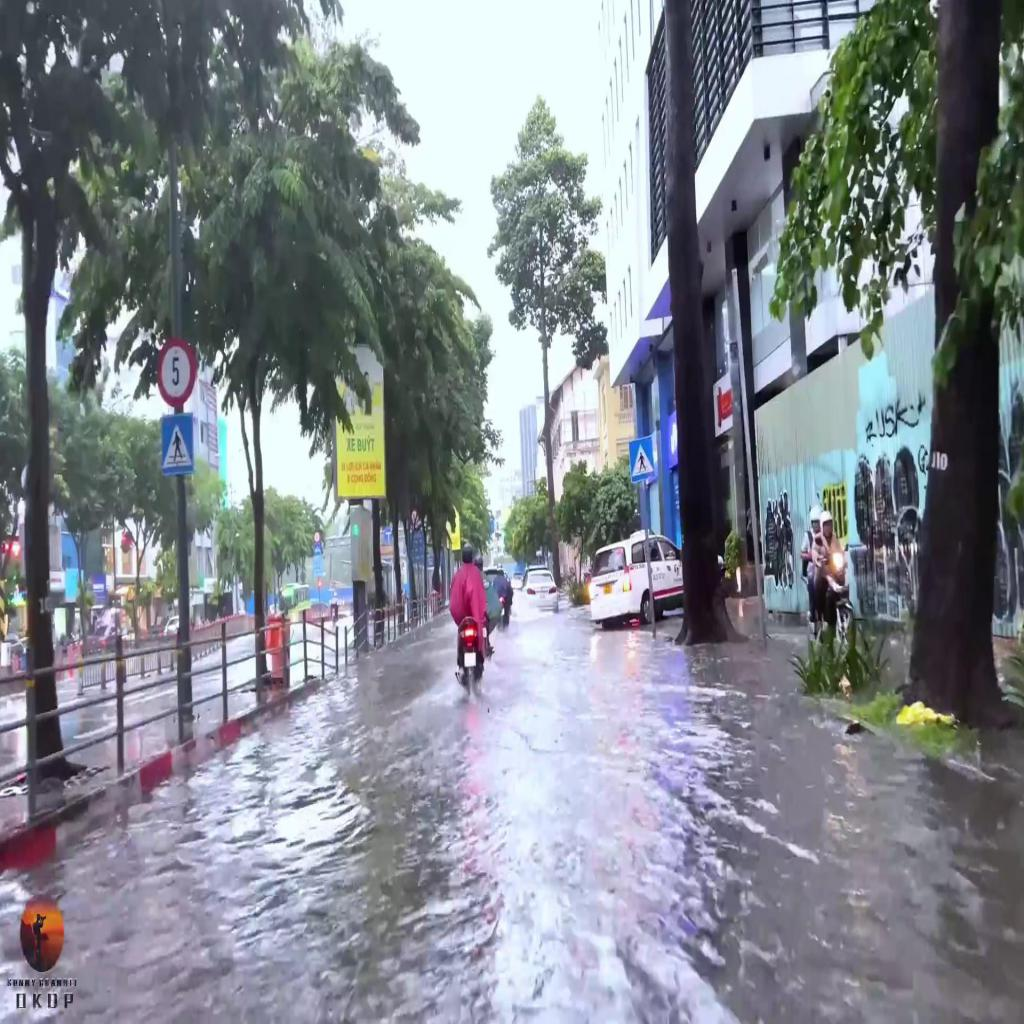duong_nguoi_di_bo_sang_ngang: (160, 412, 195, 476), (630, 433, 656, 483)
khac: (156, 334, 198, 410)
